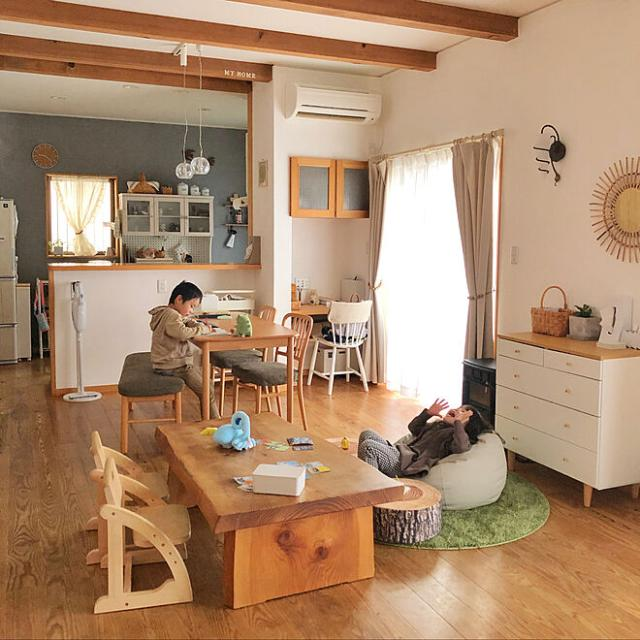natural chair: (308, 298, 373, 396)
natural desk: (160, 405, 406, 603), (184, 304, 300, 417)
